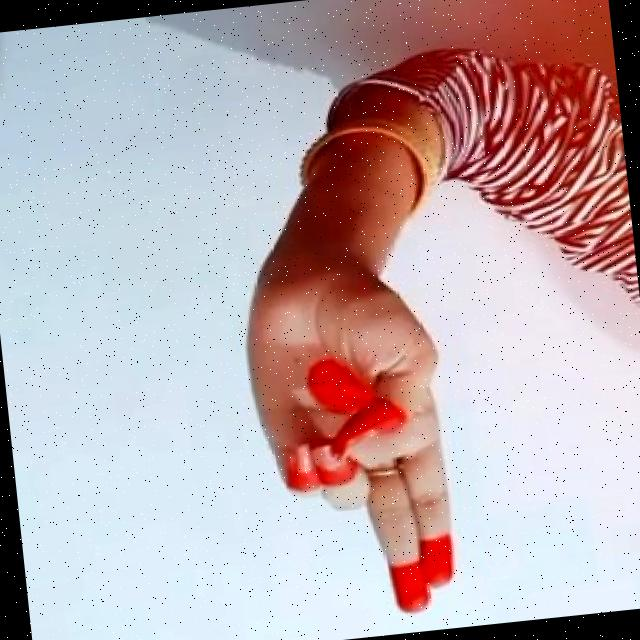Ardhapataka: (206, 246, 509, 626)
bangle: (264, 101, 458, 248)
